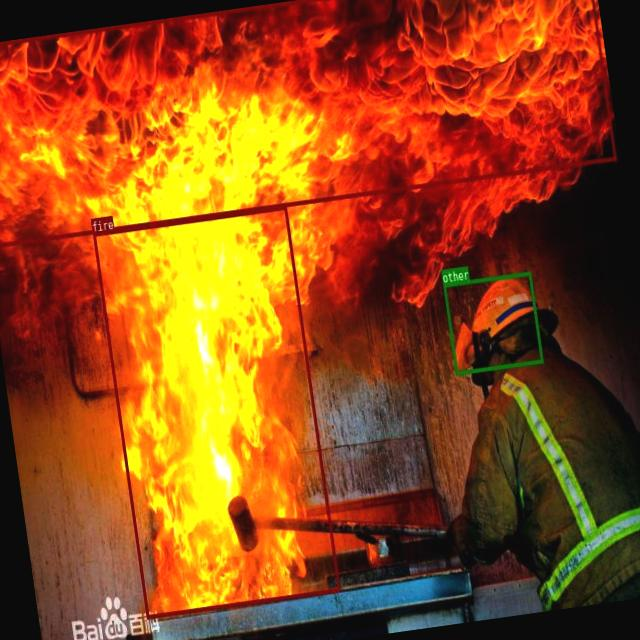fire: (0, 0, 617, 249), (93, 206, 340, 618)
